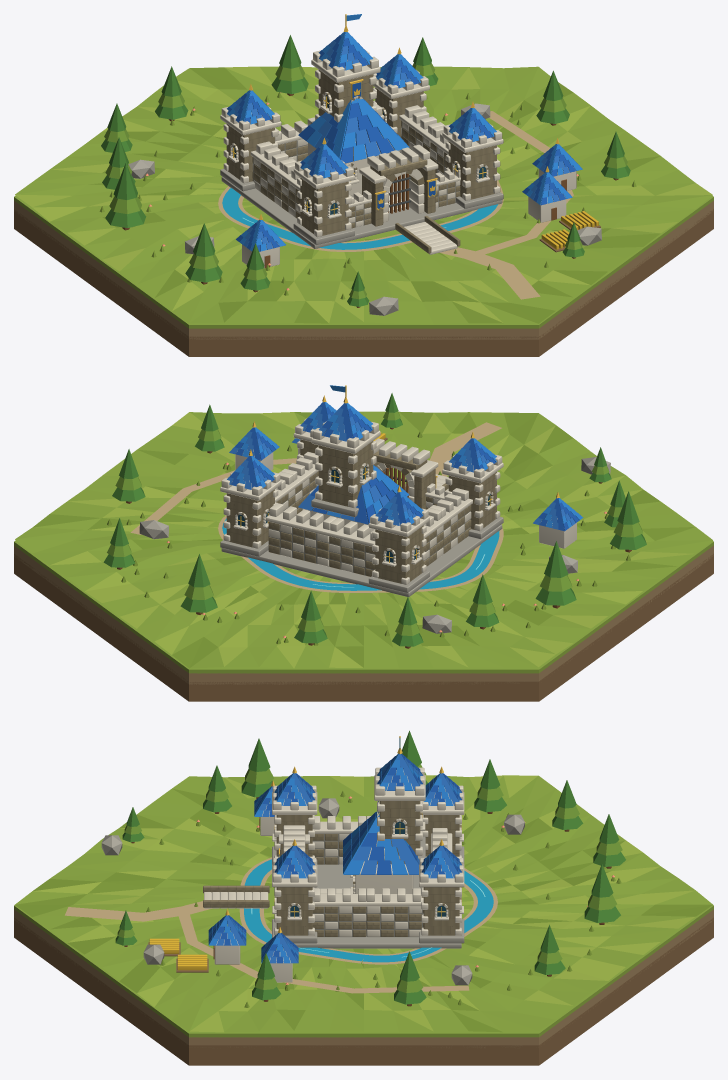
Rendered from buildable-city-center-lod0.glb.
3 renders of one model, top to bottom at view 1: azimuth 30°, elevation 25°; view 2: azimuth 150°, elevation 25°; view 3: azimuth 270°, elevation 25°, orthographic.
Visible parts, largest first — view 1: faceted_meadow, hex_ground_soil, hex_ground_earth, hex_ground_grass, castle_foundation, turquoise_moat, perimeter_tower__tower_shaft, perimeter_tower__tower_shaft.002, moat_sandy_bank, approach_road, village_lane, perimeter_tower__tower_shaft.001 (+7 smaller); view 2: faceted_meadow, hex_ground_soil, hex_ground_earth, hex_ground_grass, castle_foundation, turquoise_moat, royal_keep__tower_shaft, perimeter_tower__tower_shaft.001, perimeter_tower__tower_shaft.003, moat_sandy_bank, perimeter_tower__tower_shaft, approach_road (+8 smaller); view 3: faceted_meadow, hex_ground_soil, hex_ground_earth, hex_ground_grass, turquoise_moat, castle_foundation, moat_sandy_bank, village_lane, perimeter_tower__tower_shaft.003, perimeter_tower__tower_shaft.002, royal_keep__tower_shaft, approach_road (+5 smaller).
Boxes of the visible parts, box(x1,y1,x2,y2) form: faceted_meadow: box(15, 66, 712, 324); hex_ground_soil: box(14, 209, 713, 356); hex_ground_earth: box(14, 201, 713, 339); hex_ground_grass: box(14, 195, 713, 328); castle_foundation: box(221, 153, 502, 248); turquoise_moat: box(222, 188, 498, 249); perimeter_tower__tower_shaft: box(300, 178, 348, 235); perimeter_tower__tower_shaft.002: box(448, 141, 496, 199); moat_sandy_bank: box(218, 180, 503, 251); approach_road: box(439, 247, 540, 299); village_lane: box(464, 111, 573, 258); perimeter_tower__tower_shaft.001: box(226, 124, 274, 181); faceted_meadow: box(15, 411, 712, 668); hex_ground_soil: box(14, 553, 713, 701); hex_ground_earth: box(14, 545, 713, 684); hex_ground_grass: box(14, 540, 713, 673); castle_foundation: box(221, 509, 502, 597); turquoise_moat: box(222, 518, 499, 590); royal_keep__tower_shaft: box(318, 441, 373, 506); perimeter_tower__tower_shaft.001: box(375, 525, 423, 583); perimeter_tower__tower_shaft.003: box(226, 489, 274, 547); moat_sandy_bank: box(218, 515, 503, 592); perimeter_tower__tower_shaft: box(448, 472, 496, 529); approach_road: box(429, 422, 501, 476); faceted_meadow: box(15, 775, 712, 1032); hex_ground_soil: box(14, 917, 713, 1065); hex_ground_earth: box(14, 909, 713, 1047); hex_ground_grass: box(14, 905, 713, 1037); turquoise_moat: box(244, 859, 493, 962); castle_foundation: box(274, 864, 461, 948); moat_sandy_bank: box(239, 857, 497, 964); village_lane: box(176, 908, 469, 993); perimeter_tower__tower_shaft.003: box(423, 887, 459, 935); perimeter_tower__tower_shaft.002: box(276, 887, 312, 935); royal_keep__tower_shaft: box(379, 801, 420, 855); approach_road: box(65, 901, 212, 921).
Size of the model in its own units: 1.73 by 0.635 by 2.
Materials: 23 (1 with a texture image).
